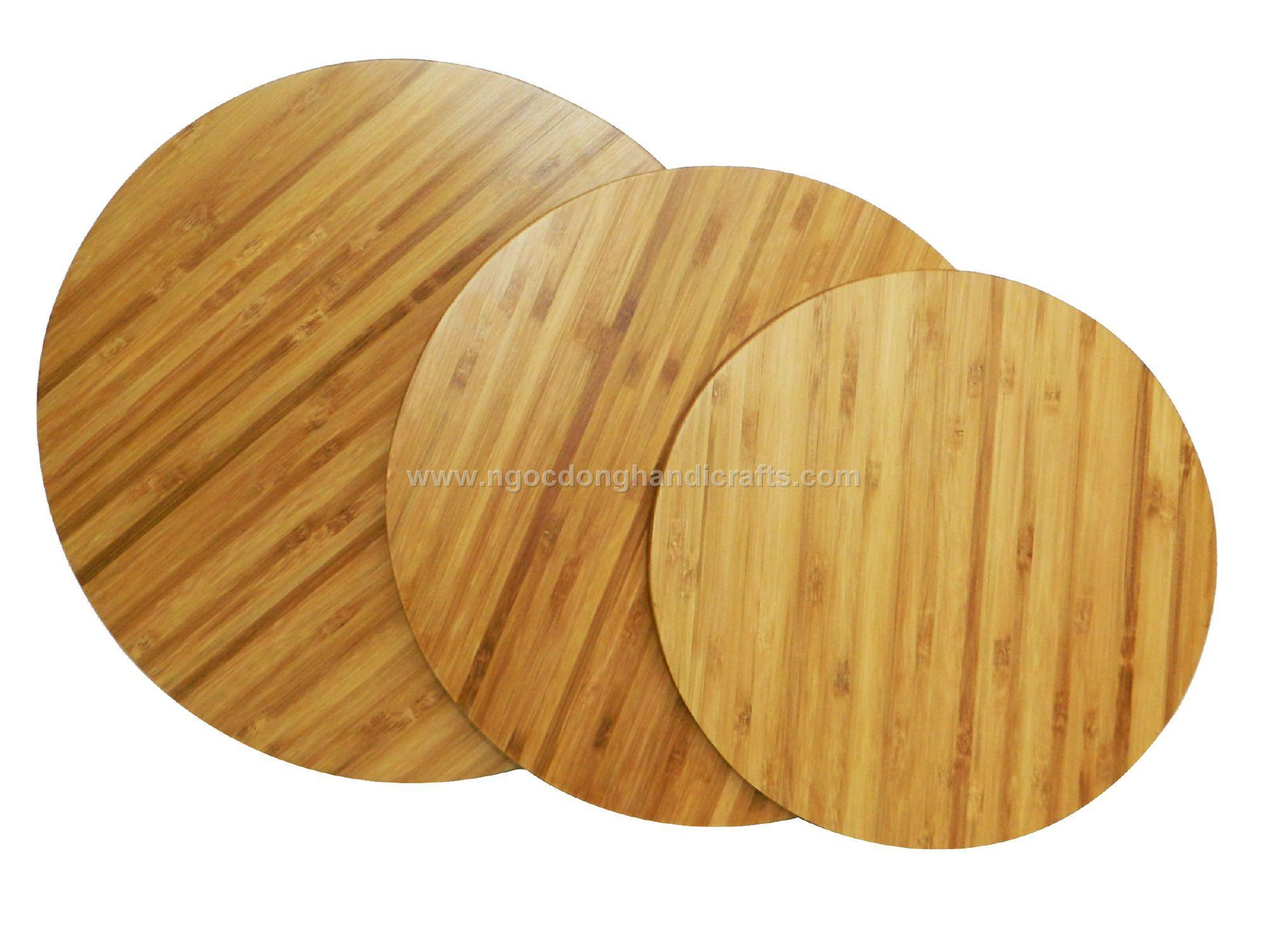gloved_hand: (623, 250, 1223, 868)
